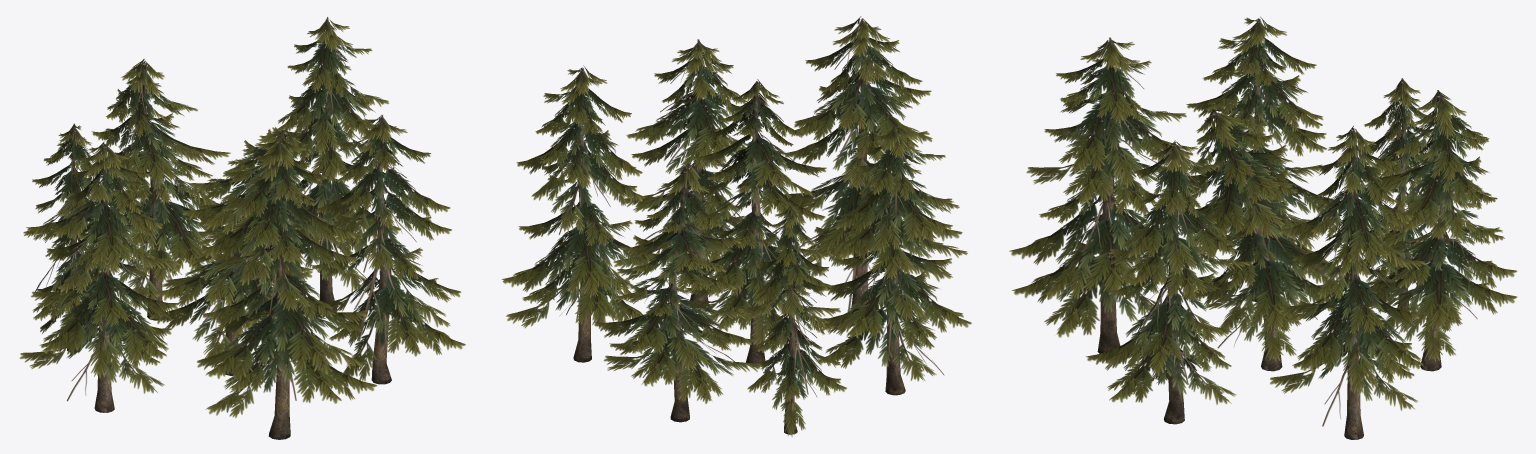
The model's file is forest_1.glb.
3 views of the same model, side by side, from view 1: azimuth 30°, elevation 25°; view 2: azimuth 150°, elevation 25°; view 3: azimuth 270°, elevation 25° (orthographic). The views are drawn at different scales.
Visible parts, largest first — view 1: Branches_Branches_lp_0.002, Branches_Branches_lp_0.001, Branches002_Branches_lp_0.002, Branches001_Branches_lp_0.002, Branches_Branches_lp_0.003, Branches001_Branches_lp_0.001, Branches002_Branches_lp_0.001, Tree_bark_Tree_bark_0.002, Tree_bark002_Tree_bark_0.002, Tree_bark_Tree_bark_0.001, Tree_bark001_Tree_bark_0.002, Tree_bark_Tree_bark_0.003; view 2: Branches_Branches_lp_0.001, Branches_Branches_lp_0.003, Branches001_Branches_lp_0.002, Branches_Branches_lp_0.002, Branches001_Branches_lp_0.001, Branches002_Branches_lp_0.002, Branches002_Branches_lp_0.001, Tree_bark001_Tree_bark_0.002, Tree_bark001_Tree_bark_0.001, Tree_bark_Tree_bark_0.003, Tree_bark_Tree_bark_0.001, Tree_bark_Tree_bark_0.002 (+1 smaller); view 3: Branches_Branches_lp_0.002, Branches_Branches_lp_0.003, Branches001_Branches_lp_0.002, Branches002_Branches_lp_0.002, Branches001_Branches_lp_0.001, Branches_Branches_lp_0.001, Branches002_Branches_lp_0.001, Tree_bark_Tree_bark_0.002, Tree_bark_Tree_bark_0.003, Tree_bark002_Tree_bark_0.002, Tree_bark001_Tree_bark_0.002, Tree_bark001_Tree_bark_0.001.
Boxes of the visible parts, x1,y1,x2,y2 form: Branches_Branches_lp_0.002: (197, 137, 377, 418); Branches_Branches_lp_0.001: (19, 141, 179, 401); Branches002_Branches_lp_0.002: (311, 114, 465, 381); Branches001_Branches_lp_0.002: (80, 58, 230, 309); Branches_Branches_lp_0.003: (271, 17, 401, 291); Branches001_Branches_lp_0.001: (148, 127, 326, 358); Branches002_Branches_lp_0.001: (23, 123, 132, 334); Tree_bark_Tree_bark_0.002: (268, 142, 290, 439); Tree_bark002_Tree_bark_0.002: (371, 120, 391, 384); Tree_bark_Tree_bark_0.001: (94, 146, 114, 412); Tree_bark001_Tree_bark_0.002: (142, 63, 165, 320); Tree_bark_Tree_bark_0.003: (319, 22, 336, 312); Branches_Branches_lp_0.001: (816, 125, 971, 381); Branches_Branches_lp_0.003: (502, 65, 663, 329); Branches001_Branches_lp_0.002: (594, 165, 765, 403); Branches_Branches_lp_0.002: (772, 16, 962, 311); Branches001_Branches_lp_0.001: (677, 79, 840, 348); Branches002_Branches_lp_0.002: (613, 39, 748, 295); Branches002_Branches_lp_0.001: (740, 205, 846, 436); Tree_bark001_Tree_bark_0.002: (668, 171, 689, 422); Tree_bark001_Tree_bark_0.001: (746, 85, 765, 366); Tree_bark_Tree_bark_0.003: (573, 71, 591, 362); Tree_bark_Tree_bark_0.001: (885, 129, 905, 395); Tree_bark_Tree_bark_0.002: (851, 21, 870, 317); Branches_Branches_lp_0.002: (1009, 37, 1200, 337); Branches_Branches_lp_0.003: (1270, 126, 1425, 426); Branches001_Branches_lp_0.002: (1365, 90, 1517, 361); Branches002_Branches_lp_0.002: (1086, 140, 1249, 404); Branches001_Branches_lp_0.001: (1179, 105, 1350, 361); Branches_Branches_lp_0.001: (1186, 16, 1341, 278); Branches002_Branches_lp_0.001: (1346, 78, 1447, 290); Tree_bark_Tree_bark_0.002: (1097, 43, 1120, 355); Tree_bark_Tree_bark_0.003: (1344, 131, 1363, 439); Tree_bark002_Tree_bark_0.002: (1164, 144, 1184, 424); Tree_bark001_Tree_bark_0.002: (1420, 95, 1447, 371); Tree_bark001_Tree_bark_0.001: (1212, 113, 1282, 371).
Size of the model in its own units: 2 by 1.42 by 2.09.
Materials: 2 (2 with a texture image).
